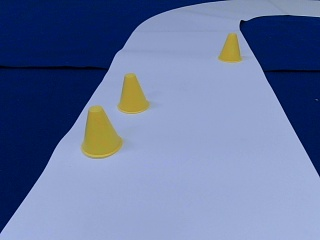cone: (81, 107, 122, 157), (117, 74, 149, 112), (218, 34, 241, 62)
